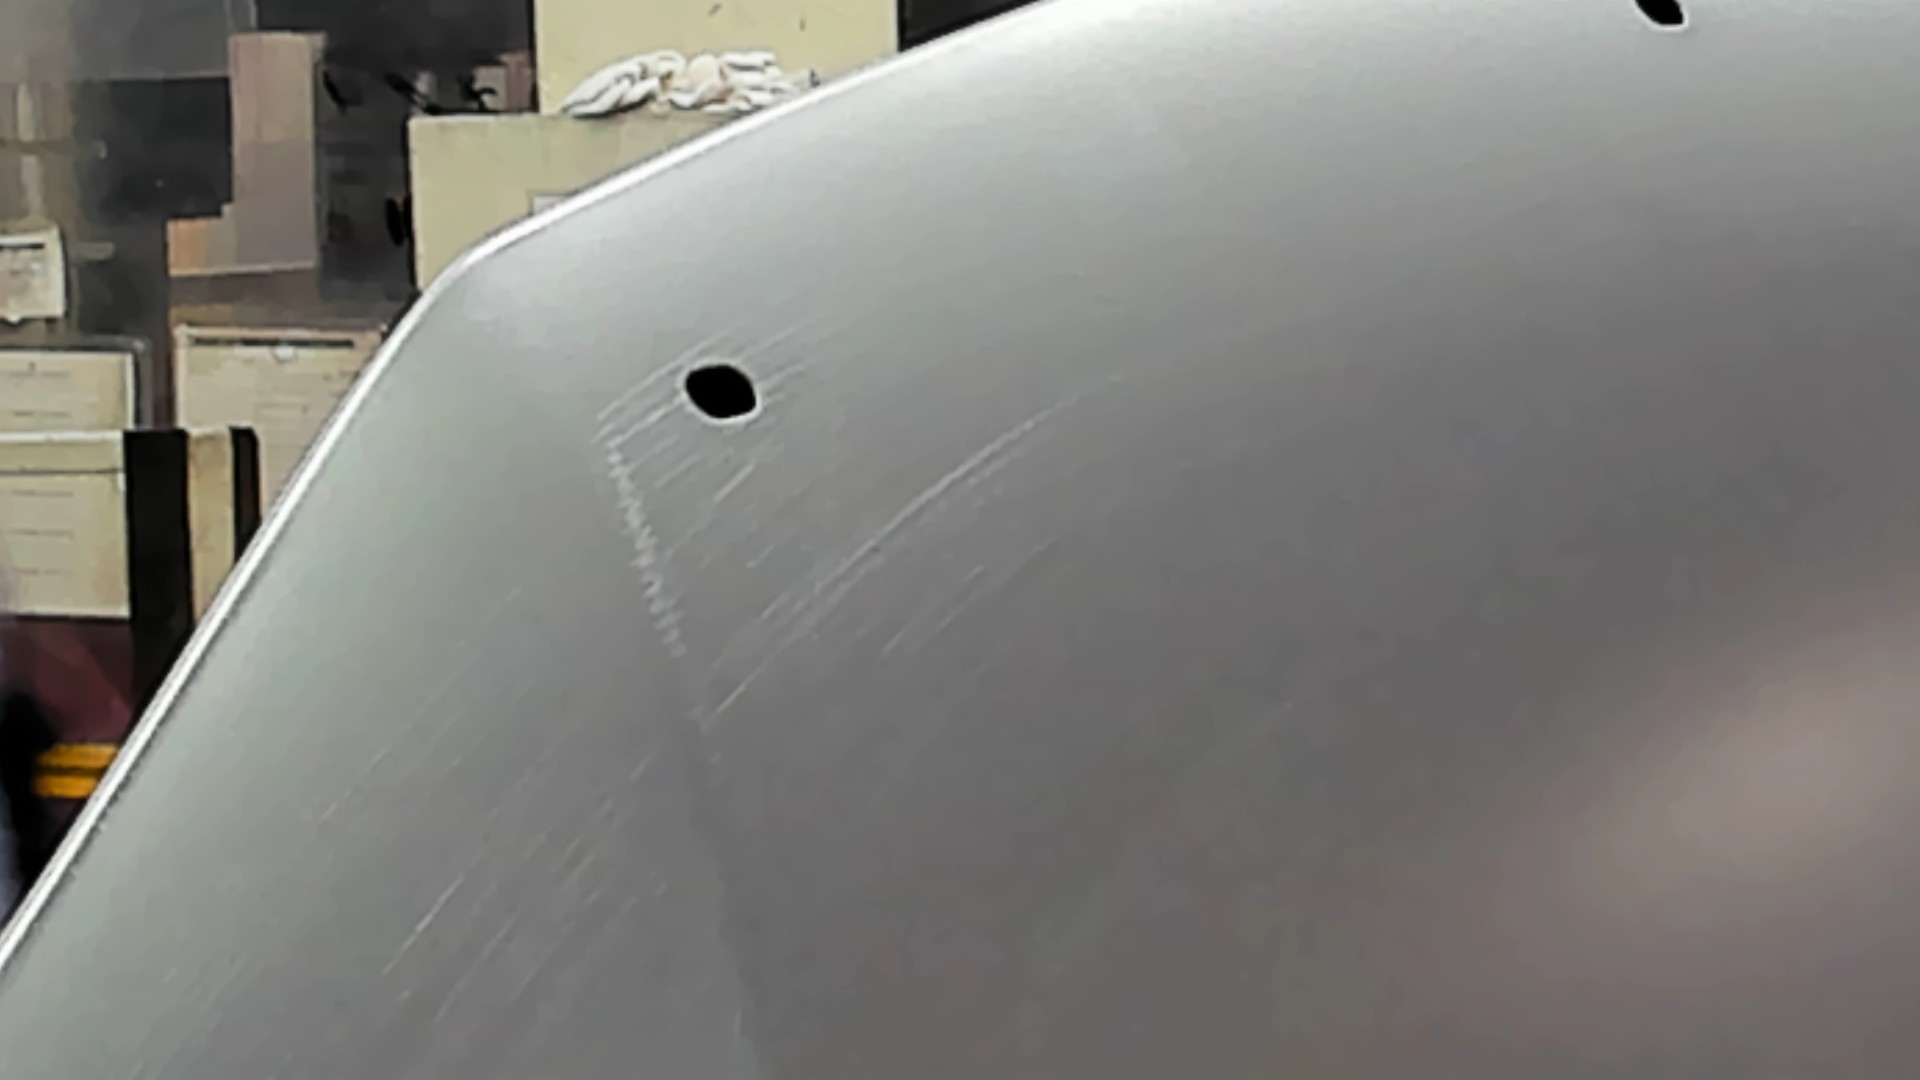amorfo: (678, 353, 770, 427), (1627, 1, 1702, 32)
capo: (858, 124, 1920, 1080)
